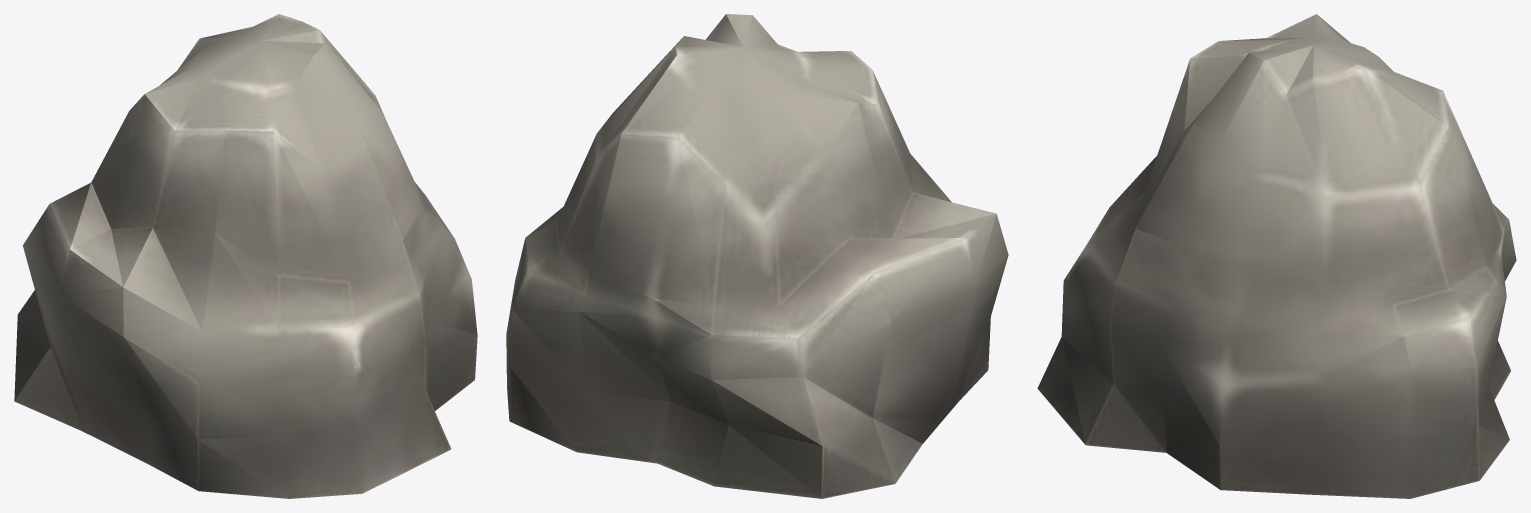
File: r32_erzpack_object_11.glb
3 views of the same model, side by side, from view 1: azimuth 30°, elevation 25°; view 2: azimuth 150°, elevation 25°; view 3: azimuth 270°, elevation 25° (orthographic). The views are drawn at different scales.
Parts seen in each view (by area): view 1: erz_11; view 2: erz_11; view 3: erz_11.
Boxes of the visible parts, left/top/right/bottom form: erz_11: left=14, top=14, right=477, bottom=498; erz_11: left=506, top=14, right=1008, bottom=498; erz_11: left=1037, top=14, right=1516, bottom=498.
Size of the model in its own units: 1 by 0.8365 by 0.9951.
Materials: 1 (1 with a texture image).
